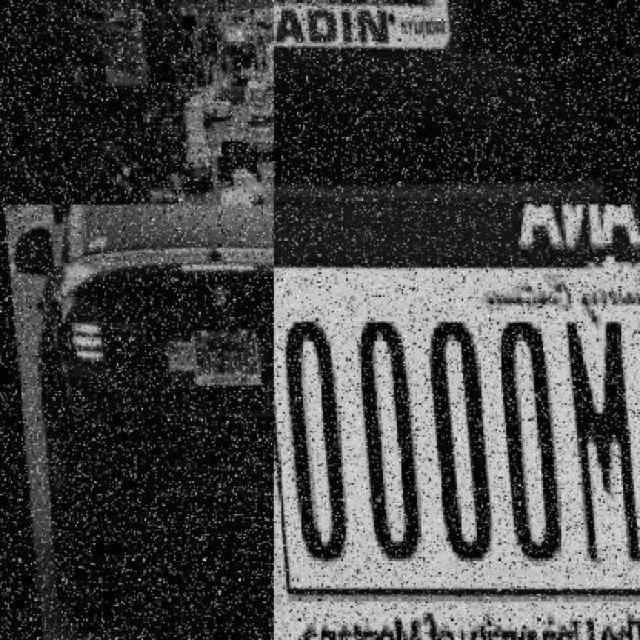licenseplate: (280, 265, 640, 608), (274, 0, 441, 143), (193, 314, 261, 383), (193, 161, 201, 168), (254, 190, 260, 199)
